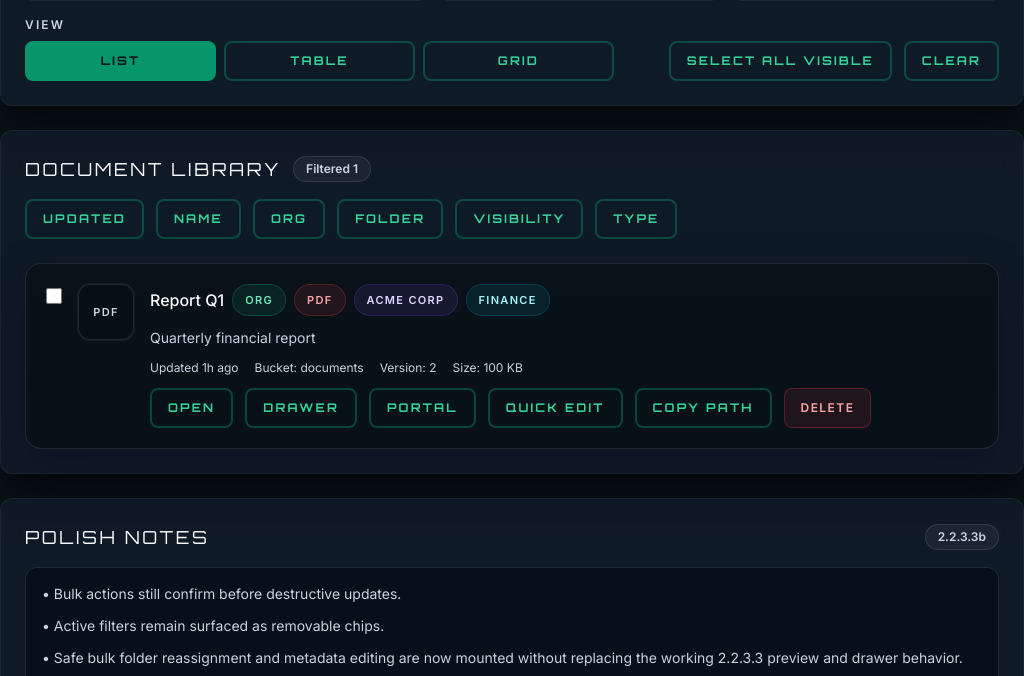
Test: AdminDocumentsCenterClient › drawer › switches drawer tabs
(page scrolled)
Click the button "Drawer".
click(301, 408)  # box 245,388 -> 357,428
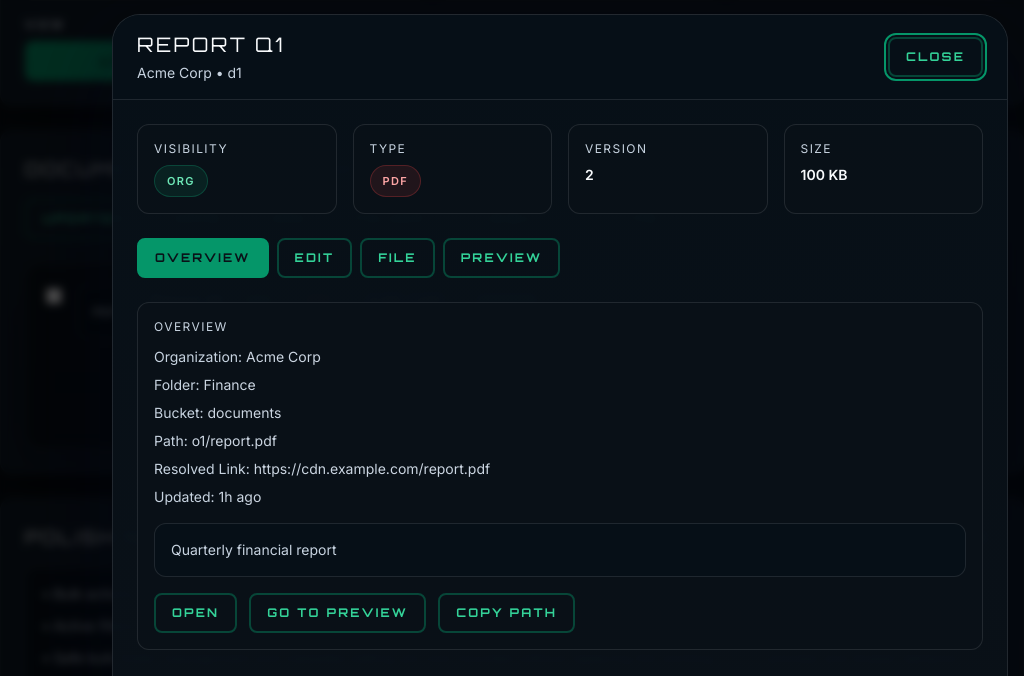
Click the button "Edit".
click(314, 258)  # box 276,238 -> 352,278
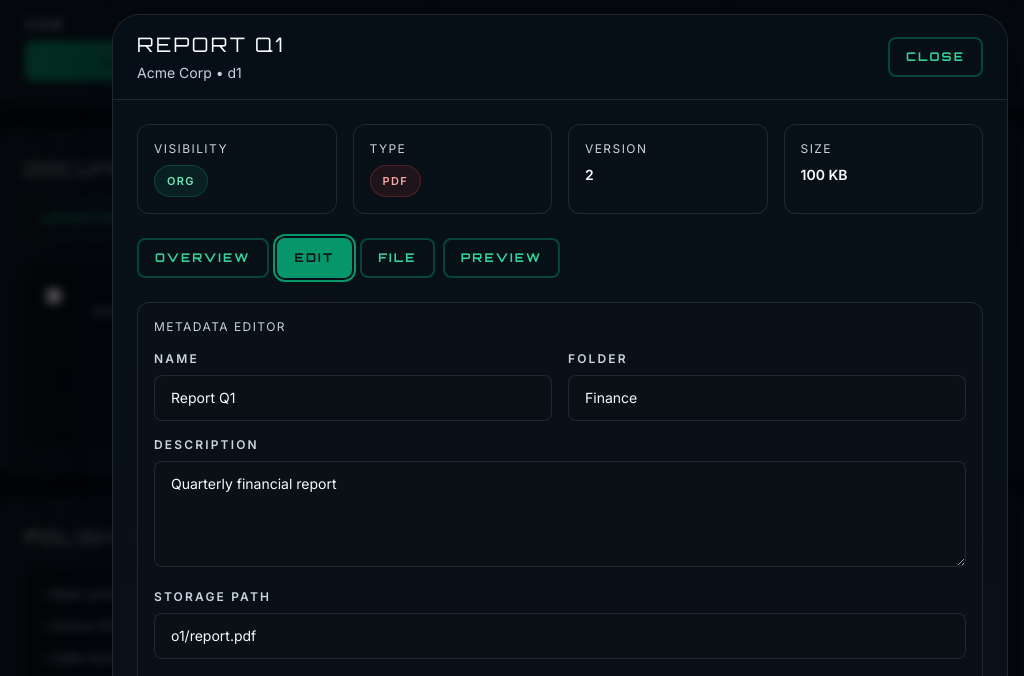
Now the text "Metadata Editor" is shown, box 154,319 -> 286,334
Click the button "File".
click(397, 258)  # box 360,238 -> 435,278
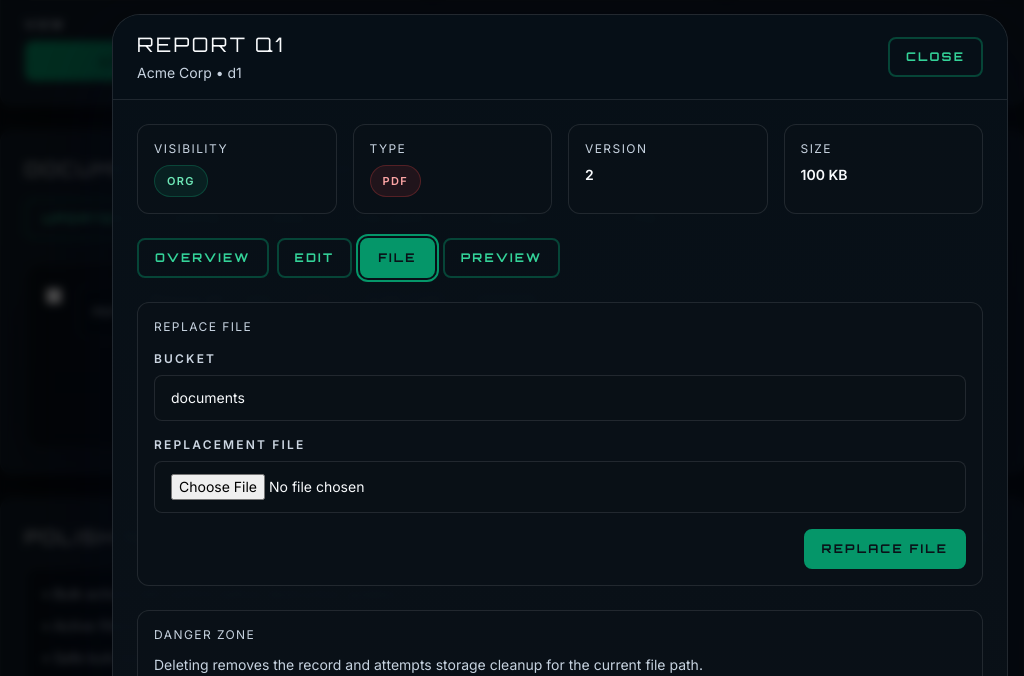
Now the text "Replace File" is shown, box 154,319 -> 252,334
